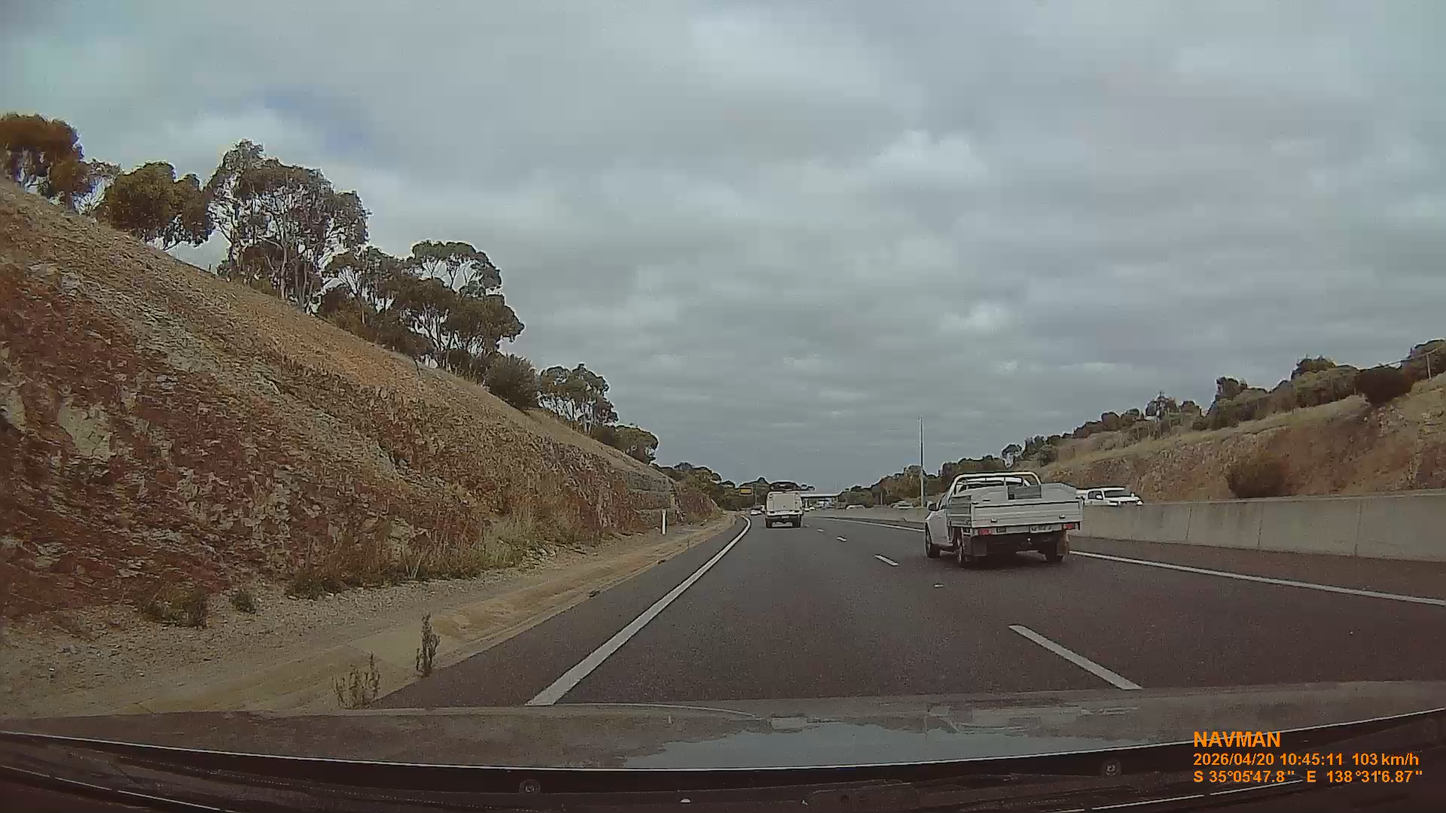road barriers: (1073, 491, 1445, 563), (813, 505, 923, 531)
